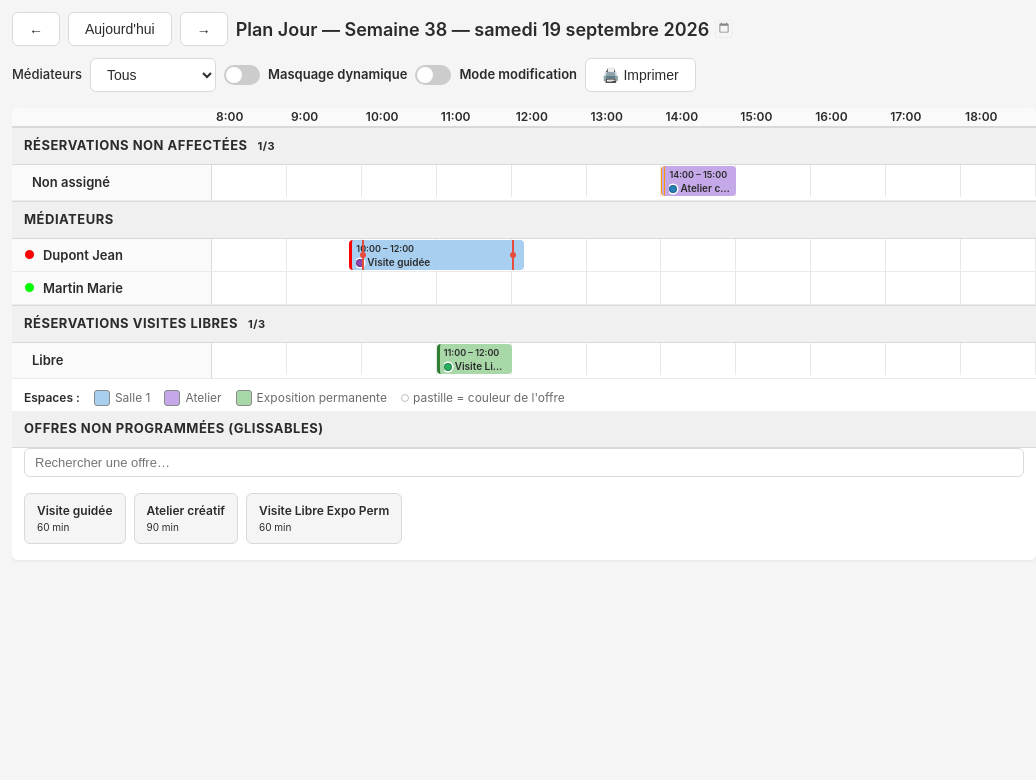
Test case: DailyView › mediator filter › should show only free mediators (no slot AND no absence) when "Libres" is selected
Select "Libres" in the dropdown with id "daily-mediator-filter". click: point(153, 75)
box: x1=90 y1=58 x2=216 y2=92
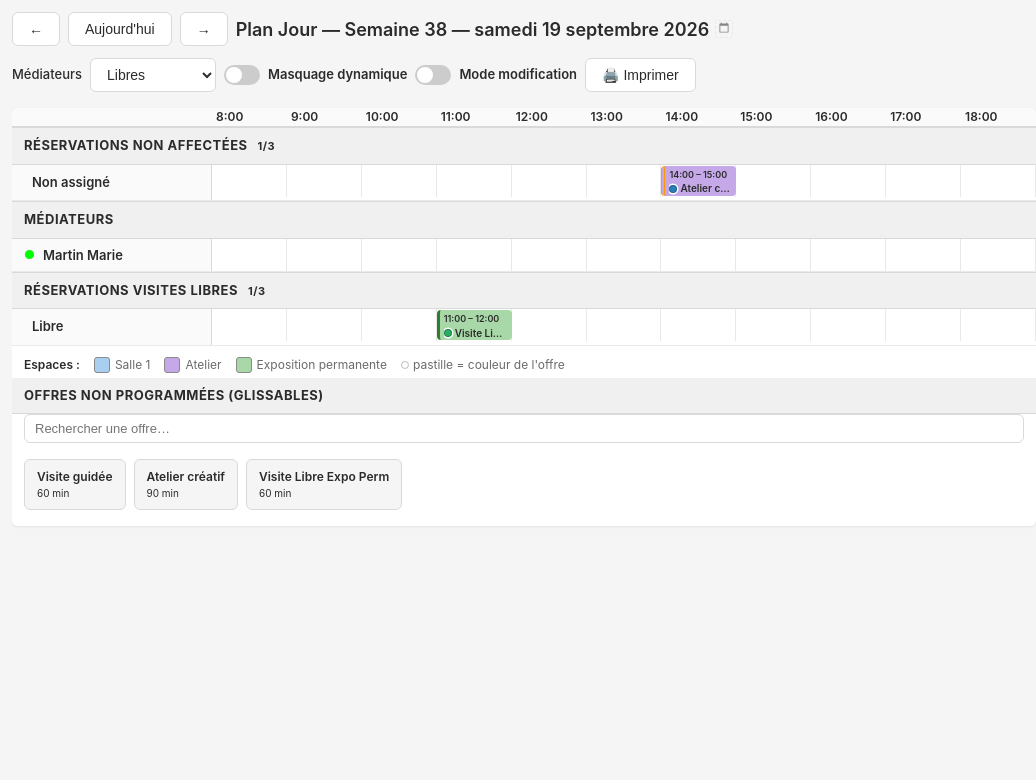
Expected: the element with class "daily-mediator-row" shows "Martin Marie", x1=12 y1=238 x2=1035 y2=272
Expected: the number of elements with class "daily-mediator-row" is 1, x1=12 y1=238 x2=1035 y2=272
Expected: the text with class "daily-mediator-row" no longer shows "Dupont"
